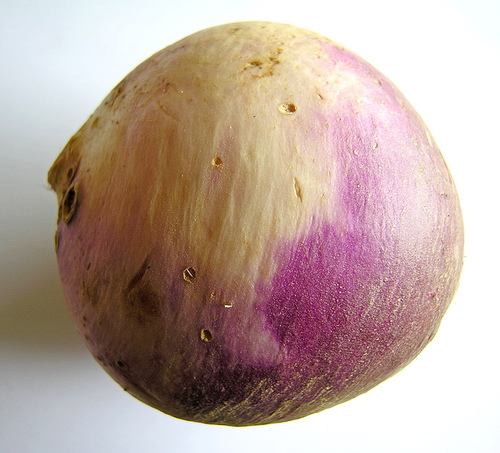turnip: (47, 19, 467, 429)
